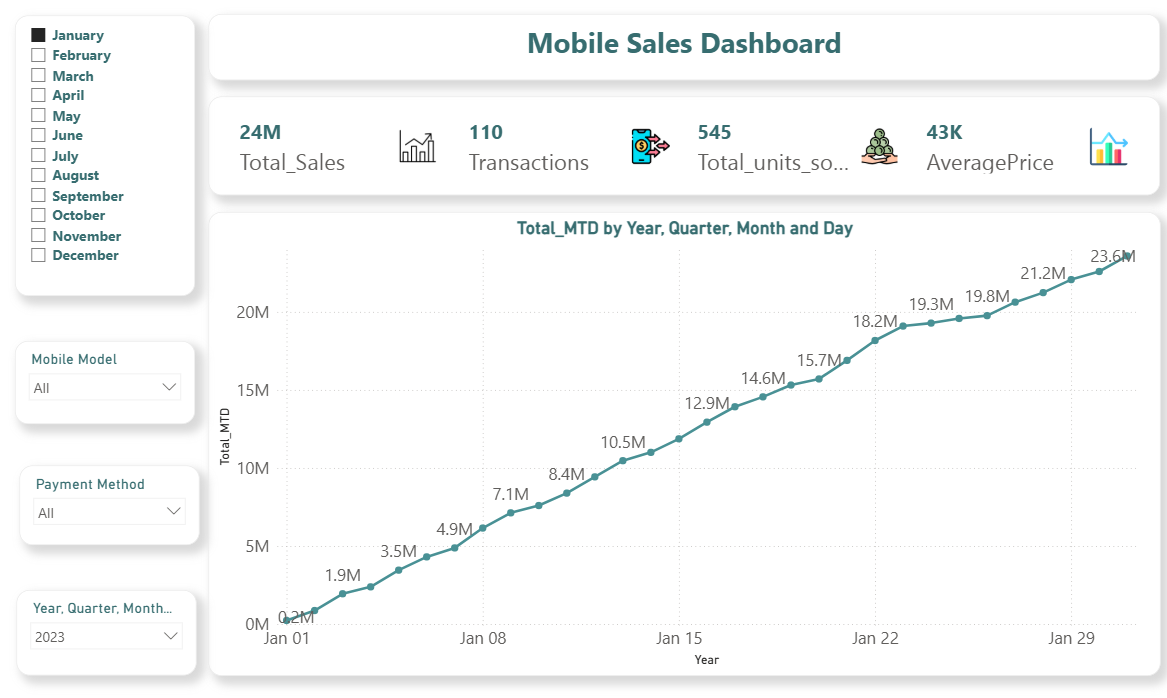

The dashboard page shown, as its layout file describes it:
{"tool":"powerbi","page":{"name":"MTD_Sales","canvas":[1355,820],"ordinal":1},"visuals":[{"type":"slicer","fields":{"Values":["Custom_Calender.Date.Variation.Date Hierarchy.Month"]},"box":[17.4,21.7,206.5,321.7],"z":0},{"type":"cardVisual","fields":{"Data":["SalesData.Total_Sales","SalesData.Transactions","SalesData.Total_units_sold","SalesData.AveragePrice"]},"box":[239.6,115,1093,113.3],"z":1000},{"type":"slicer","fields":{"Values":["SalesData.Mobile Model"]},"box":[17.4,395.7,206.5,95.7],"z":2000},{"type":"slicer","fields":{"Values":["Custom_Calender.Date.Variation.Date Hierarchy.Year","Custom_Calender.Date.Variation.Date Hierarchy.Quarter","Custom_Calender.Date.Variation.Date Hierarchy.Month","Custom_Calender.Date.Variation.Date Hierarchy.Day"]},"box":[19.6,682.6,206.5,97.8],"z":3000},{"type":"slicer","fields":{"Values":["SalesData.Payment Method"]},"box":[21.7,539.1,206.5,91.3],"z":4000},{"type":"textbox","box":[239.6,21,1093,76.1],"z":5000},{"type":"lineChart","fields":{"Y":["SalesData.Total_MTD"],"Category":["Custom_Calender.Date.Variation.Date Hierarchy.Year","Custom_Calender.Date.Variation.Date Hierarchy.Quarter","Custom_Calender.Date.Variation.Date Hierarchy.Month","Custom_Calender.Date.Variation.Date Hierarchy.Day"]},"box":[239.1,247.8,1093.5,532.6],"z":6000}]}

Visuals, with their boxes in screenshot pixels (x1, y1, x2, y2), scaled from the page's 1355x820 canvas onto the 1167x698 screenshot:
slicer - Custom_Calender.Date.Variation.Date Hierarchy.Month: locate(15, 18, 193, 292)
cardVisual - SalesData.Total_Sales x SalesData.Transactions: locate(206, 98, 1148, 194)
slicer - SalesData.Mobile Model: locate(15, 337, 193, 418)
slicer - Custom_Calender.Date.Variation.Date Hierarchy.Year x Custom_Calender.Date.Variation.Date Hierarchy.Quarter: locate(17, 581, 195, 664)
slicer - SalesData.Payment Method: locate(19, 459, 197, 537)
textbox: locate(206, 18, 1148, 83)
lineChart - SalesData.Total_MTD x Custom_Calender.Date.Variation.Date Hierarchy.Year: locate(206, 211, 1148, 664)
